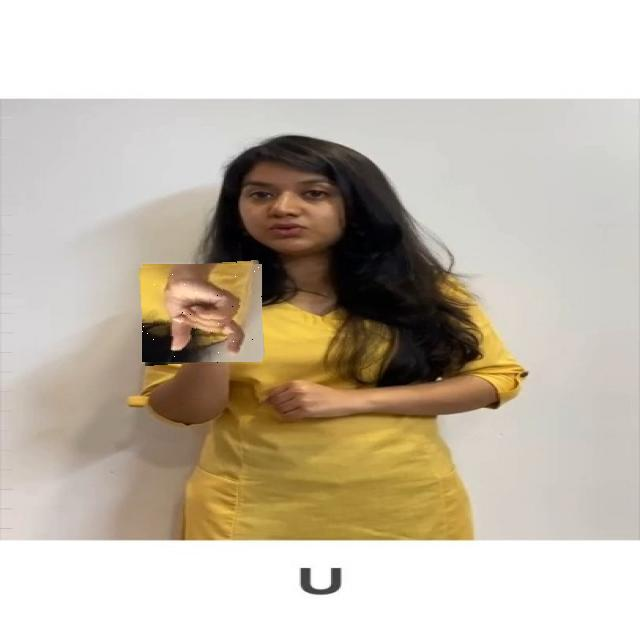U: (141, 262, 263, 364)
